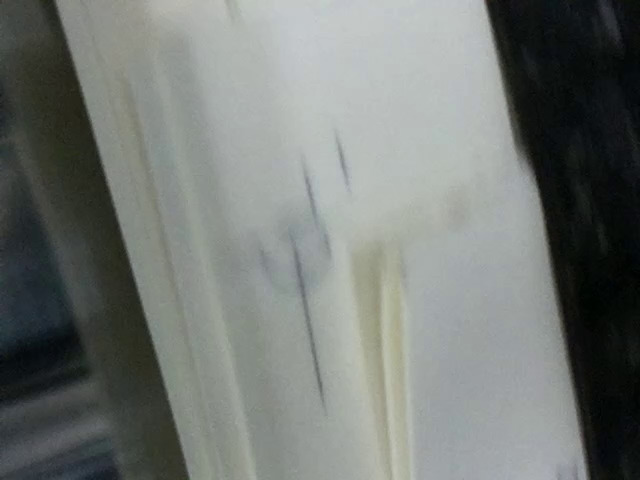not_sure: (256, 192, 352, 320)
